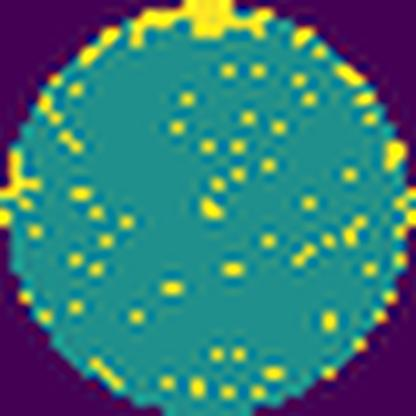Edge-Loc: (128, 0, 278, 49), (0, 144, 43, 211)
